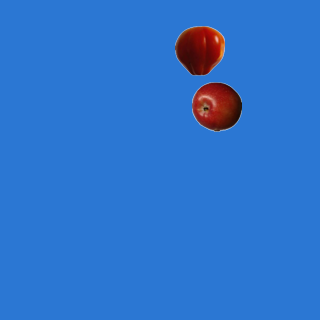Apple Braeburn: (191, 81, 241, 131)
Tomato 1: (174, 25, 224, 75)
